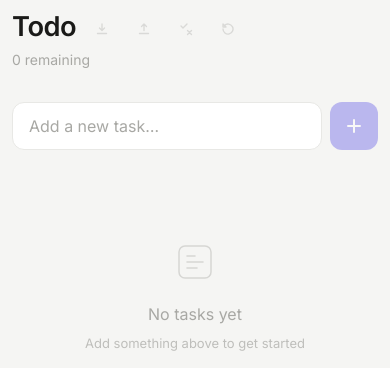
Test: TodoApp › decrements remaining count when a todo is checked
Type "Task A" into the field with class "add-input" at (167, 126), box [12, 102, 322, 150]
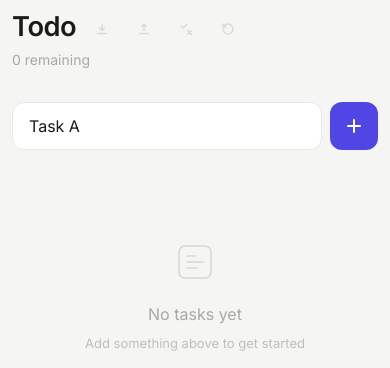
Submit the form with class "add-form", box [12, 102, 378, 150]
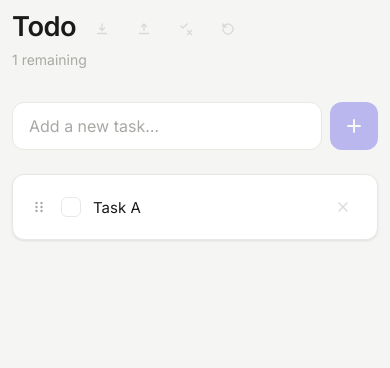
Type "Task B" into the field with class "add-input" at (167, 126), box [12, 102, 322, 150]
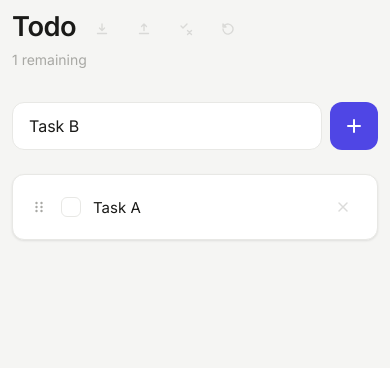
Submit the form with class "add-form", box [12, 102, 378, 150]
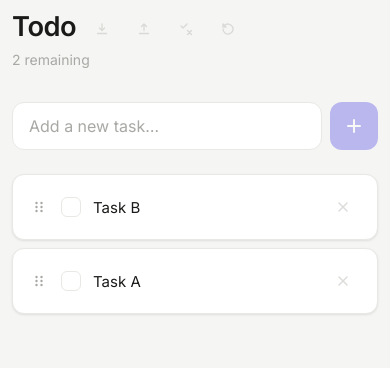
Click the checkbox next to "Task B" at (71, 207), box [61, 197, 81, 217]
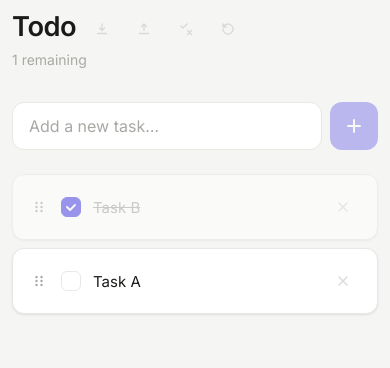
Expected: the text with class "subtitle" reads "1 remaining", [12, 51, 87, 68]
